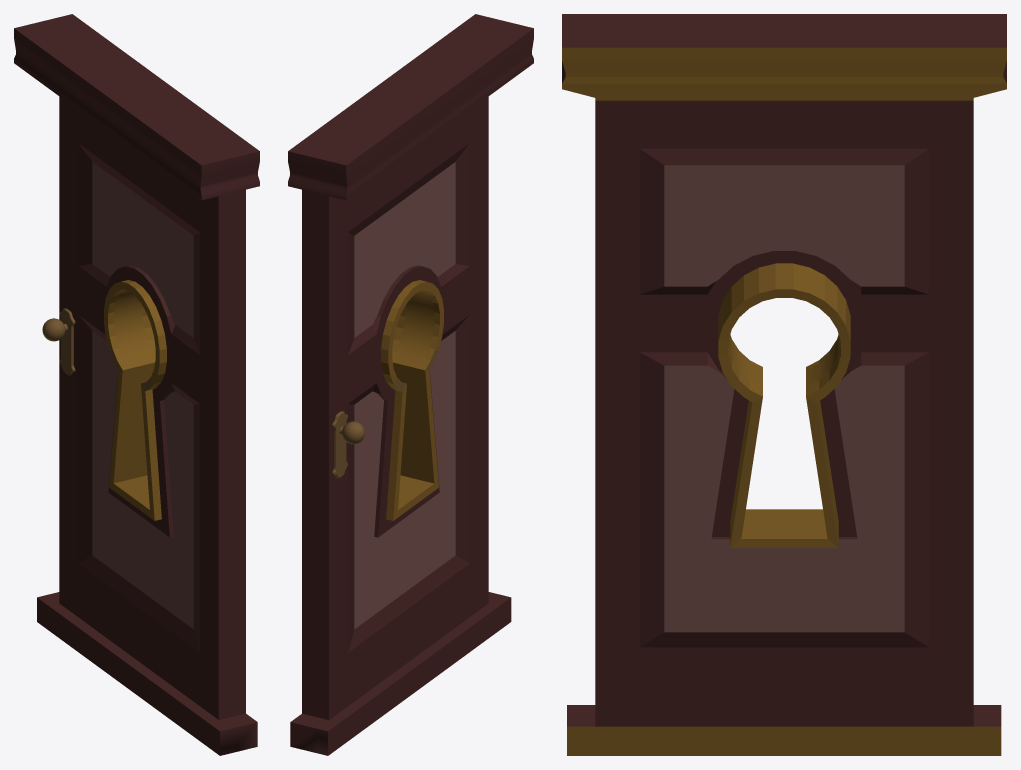
File: StartTür.fbx
3 views of the same model, side by side, from view 1: azimuth 30°, elevation 25°; view 2: azimuth 150°, elevation 25°; view 3: azimuth 270°, elevation 25° (orthographic). The views are drawn at different scales.
Visible parts, largest first — view 1: book; view 2: book; view 3: book.
Boxes of the visible parts, left/top/right/bottom form: book: left=14, top=14, right=259, bottom=755; book: left=288, top=14, right=533, bottom=755; book: left=562, top=14, right=1006, bottom=755.
Size of the model in its own units: 7.88 by 59.22 by 33.7.
